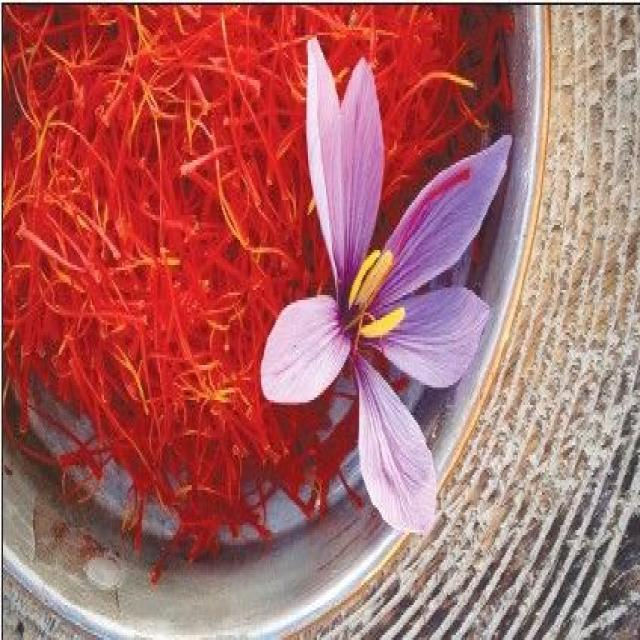Flower: (261, 39, 511, 531)
stigma: (366, 160, 476, 308)
